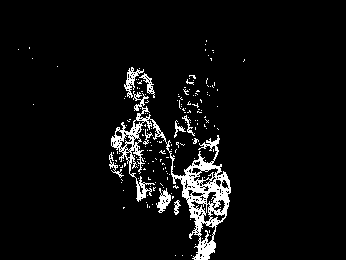person: (182, 143, 228, 259), (133, 103, 171, 206), (168, 110, 199, 204), (108, 119, 135, 194), (124, 67, 156, 111), (180, 74, 203, 114)
